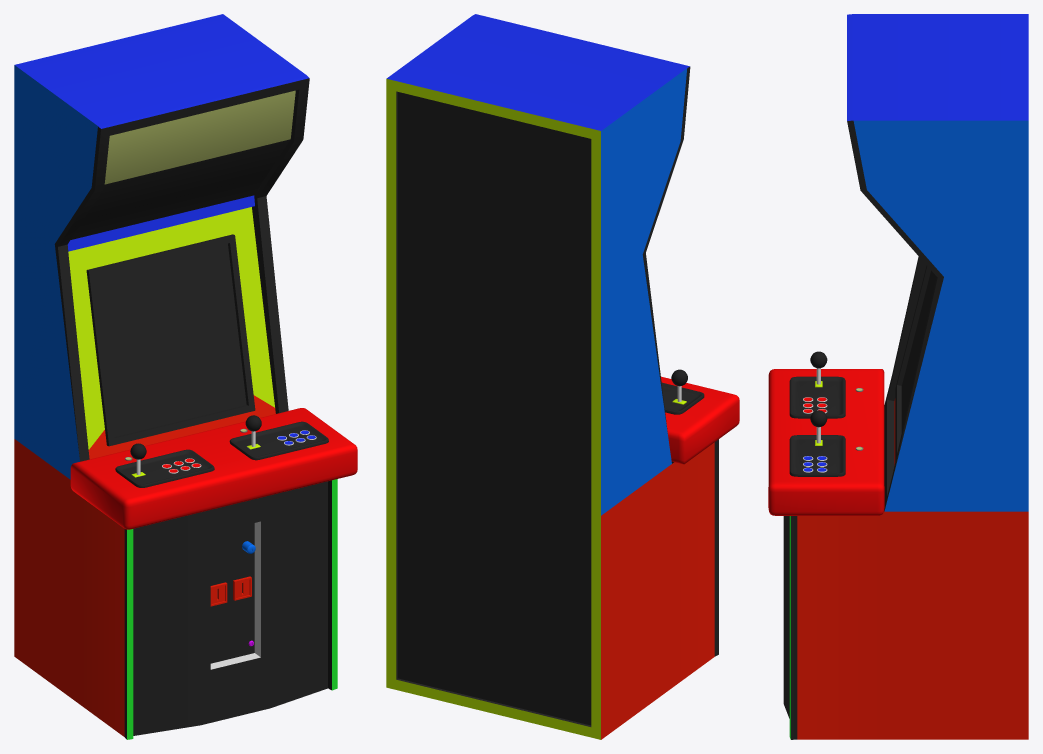
The model's file is Arcade.fbx.
3 renders of one model, left to right at view 1: azimuth 30°, elevation 25°; view 2: azimuth 150°, elevation 25°; view 3: azimuth 270°, elevation 25°, orthographic. The views are drawn at different scales.
Visible parts, largest first — view 1: Arcade; view 2: Arcade; view 3: Arcade.
Boxes of the visible parts, <box> form: Arcade: <box>14,14,357,739</box>; Arcade: <box>386,14,739,739</box>; Arcade: <box>768,14,1028,739</box>.
Size of the model in its own units: 2.65 by 6.42 by 2.45.
